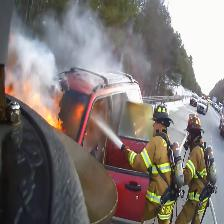fire: (4, 69, 112, 154)
nofire: (136, 114, 224, 224)
smoke: (5, 1, 192, 97)
